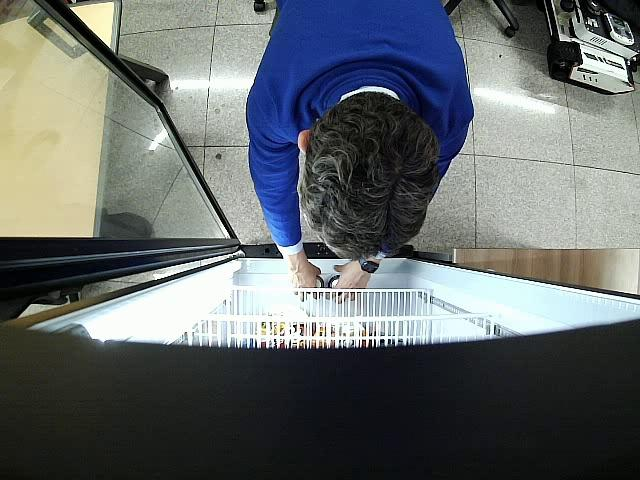00_hand: (284, 258, 321, 301), (334, 265, 368, 304)
